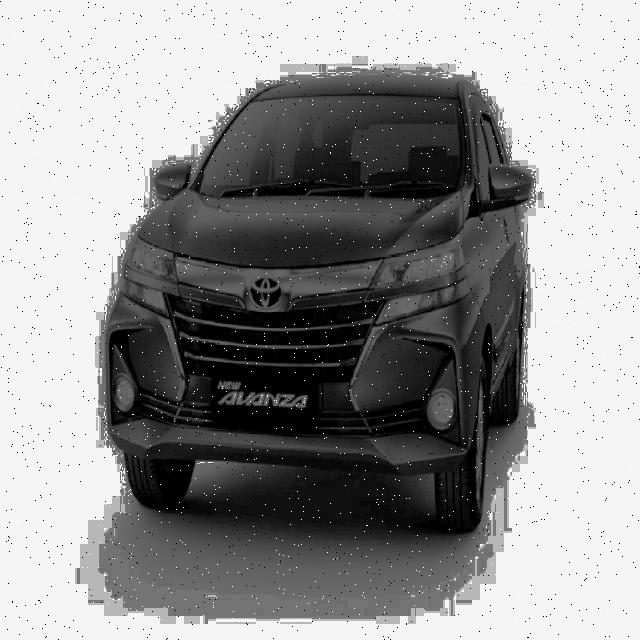Car: (104, 69, 550, 558)
